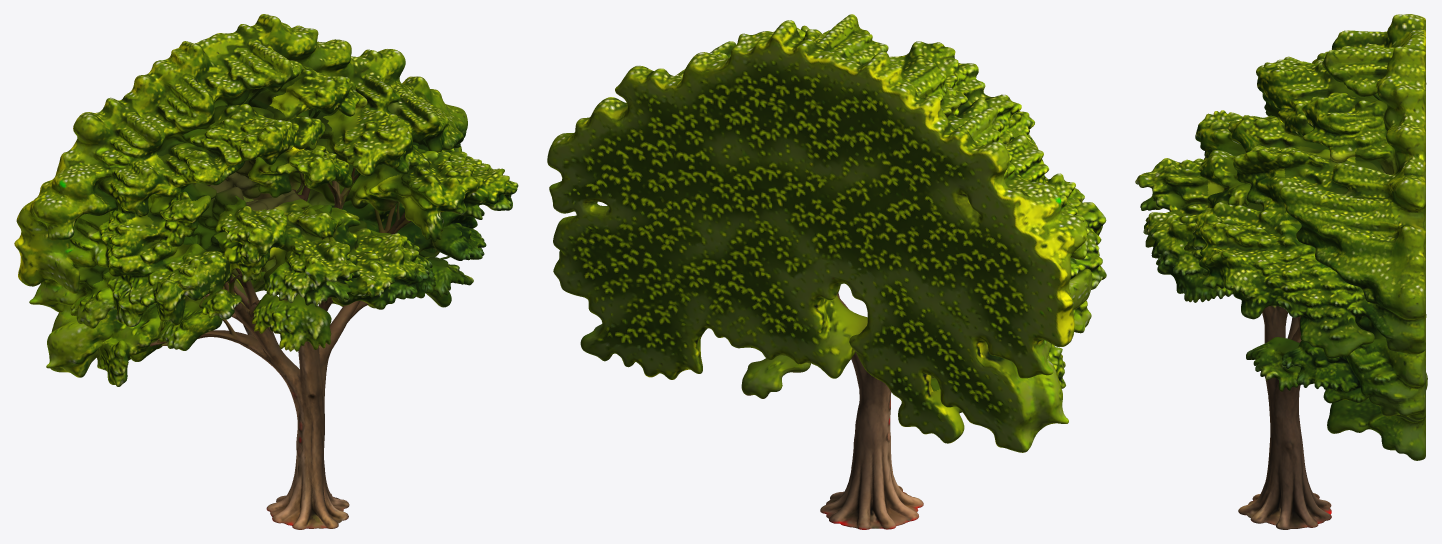
File: tree-mesh.glb
The picture shows the model from 3 angles, left to right: view 1: azimuth 30°, elevation 25°; view 2: azimuth 150°, elevation 25°; view 3: azimuth 270°, elevation 25°; orthographic projection. The views are drawn at different scales.
Visible parts, largest first — view 1: tmp5bv8qs8wobj; view 2: tmp5bv8qs8wobj; view 3: tmp5bv8qs8wobj.
Part boxes in pixels (x1,y1,x2,y2): tmp5bv8qs8wobj: [14, 14, 518, 529]; tmp5bv8qs8wobj: [547, 14, 1106, 529]; tmp5bv8qs8wobj: [1135, 14, 1427, 529].
Bounding box in the file's own units: 1 × 0.9651 × 0.5406.
1 material, 1 textured.
